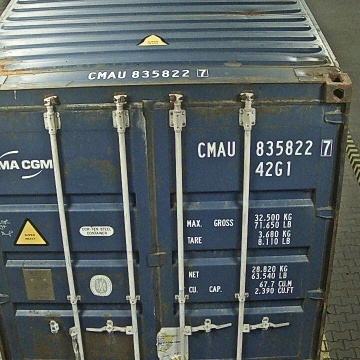serial_id: (198, 139, 332, 157)
